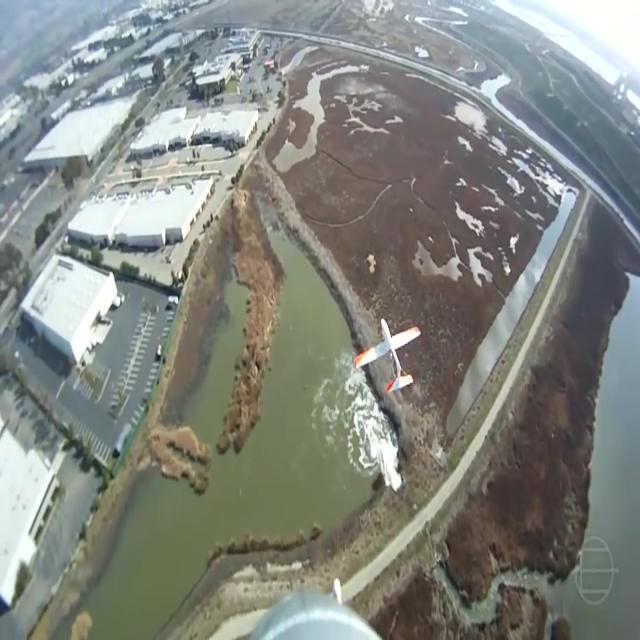iha: (386, 349, 390, 362)
